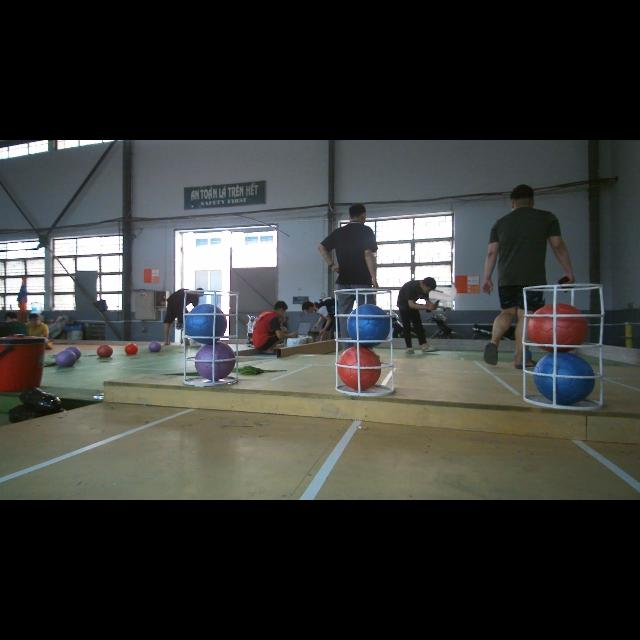B: (533, 353, 595, 403), (346, 304, 392, 346), (185, 304, 228, 342)
R: (528, 303, 588, 352), (338, 346, 382, 390)
